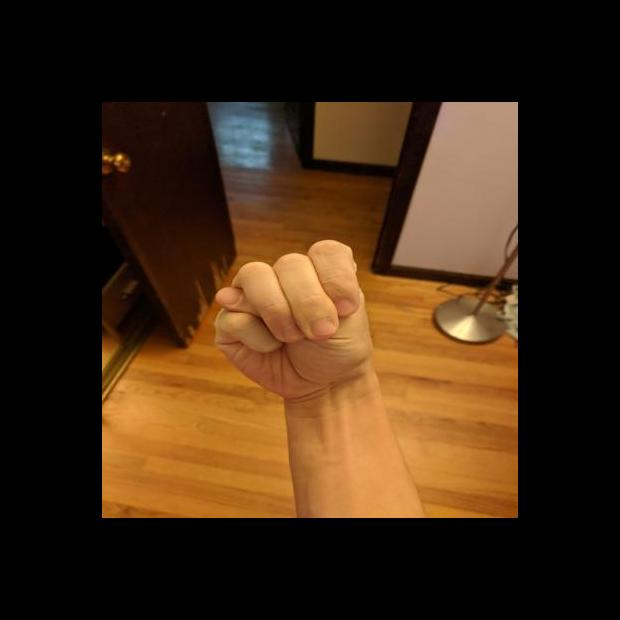L: (207, 236, 380, 400)
